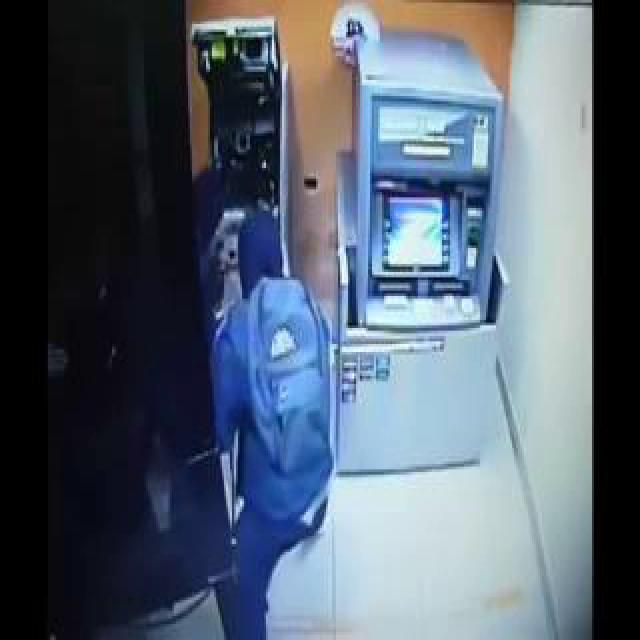burglary: (48, 38, 401, 628)
